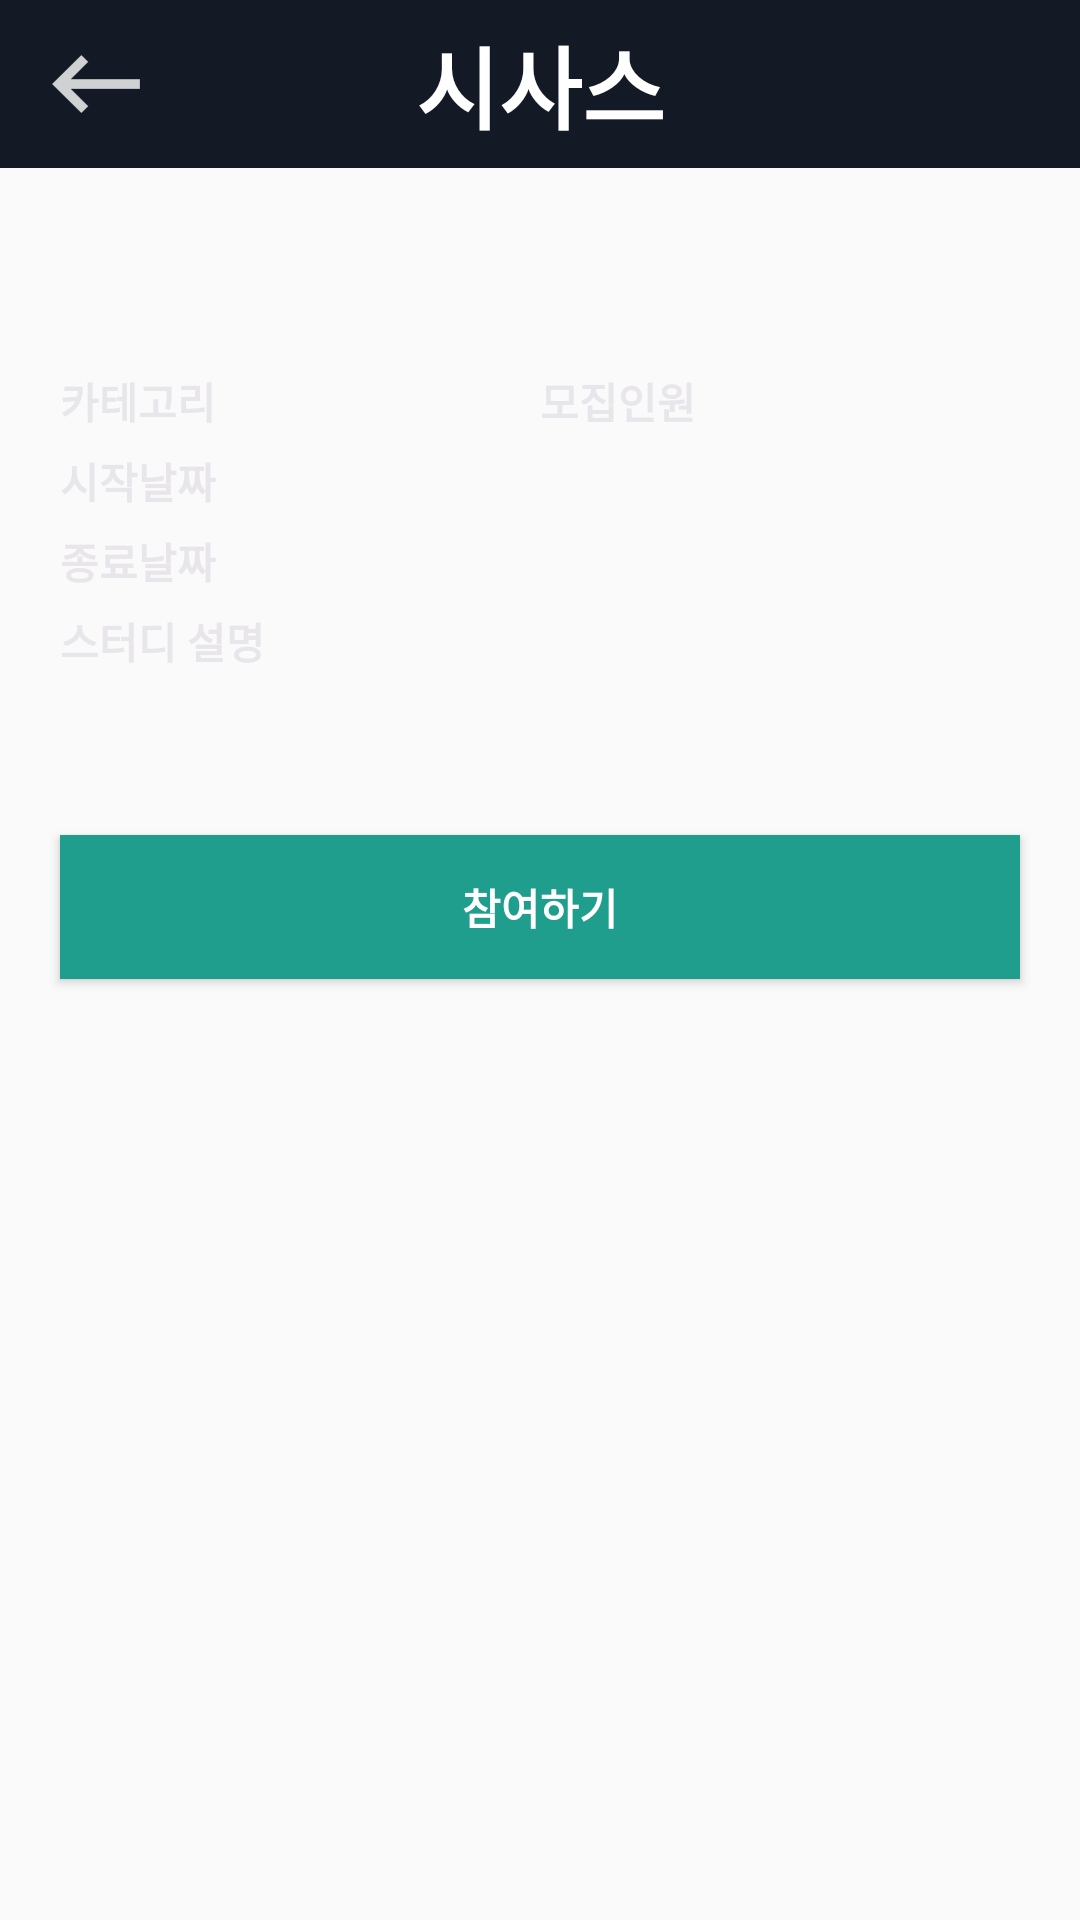

Screen size 1080w x 1920h. Icon name, then its center in pixels as (x,y):
back: (96,84)
